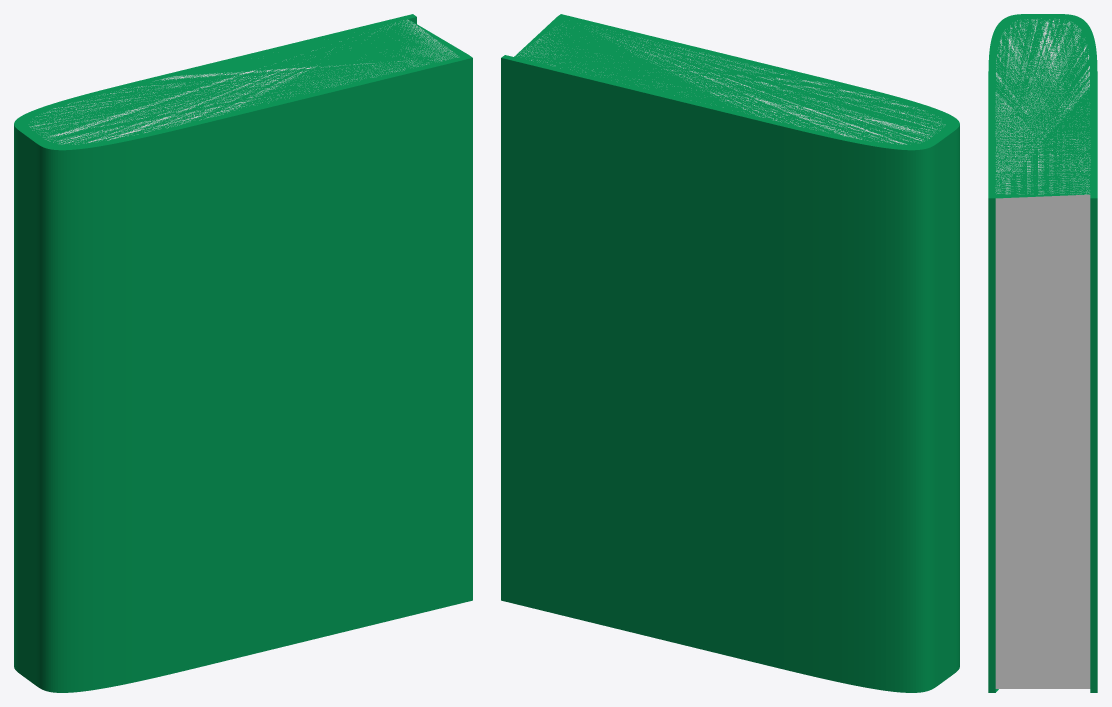
Rendered from book_4.fbx.
3 renders of one model, left to right at view 1: azimuth 30°, elevation 25°; view 2: azimuth 150°, elevation 25°; view 3: azimuth 270°, elevation 25°, orthographic. The views are drawn at different scales.
Visible parts, largest first — view 1: Case, Page; view 2: Case, Page; view 3: Page, Case.
Boxes of the visible parts, x1=… form: Case: x1=14, y1=14, x2=472, y2=692; Page: x1=29, y1=19, x2=458, y2=144; Case: x1=501, y1=14, x2=959, y2=692; Page: x1=517, y1=26, x2=945, y2=144; Page: x1=995, y1=18, x2=1090, y2=688; Case: x1=988, y1=14, x2=1097, y2=692.
Bounding box in the file's own units: 80 × 100 × 20.
